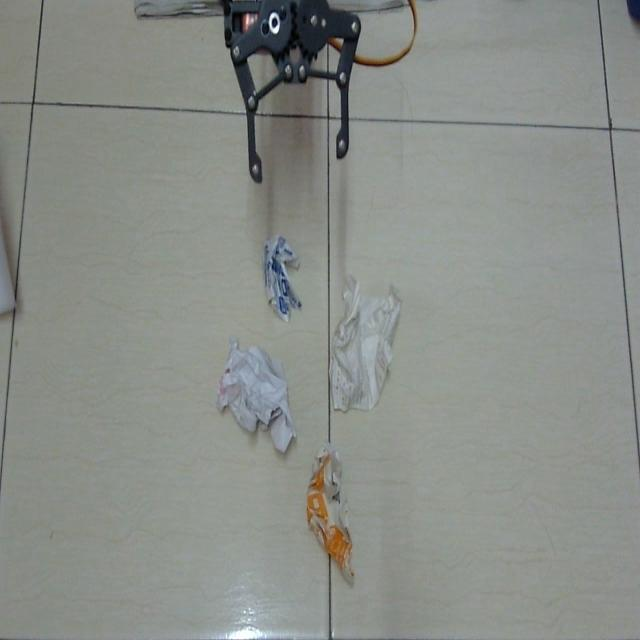paperrotation: (322, 262, 411, 419), (213, 318, 300, 462), (300, 437, 365, 603), (256, 228, 311, 328)
